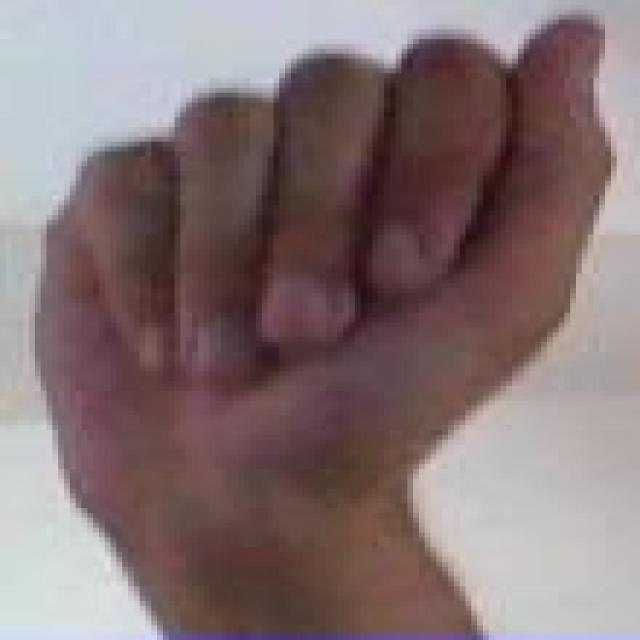A: (34, 20, 610, 581)
